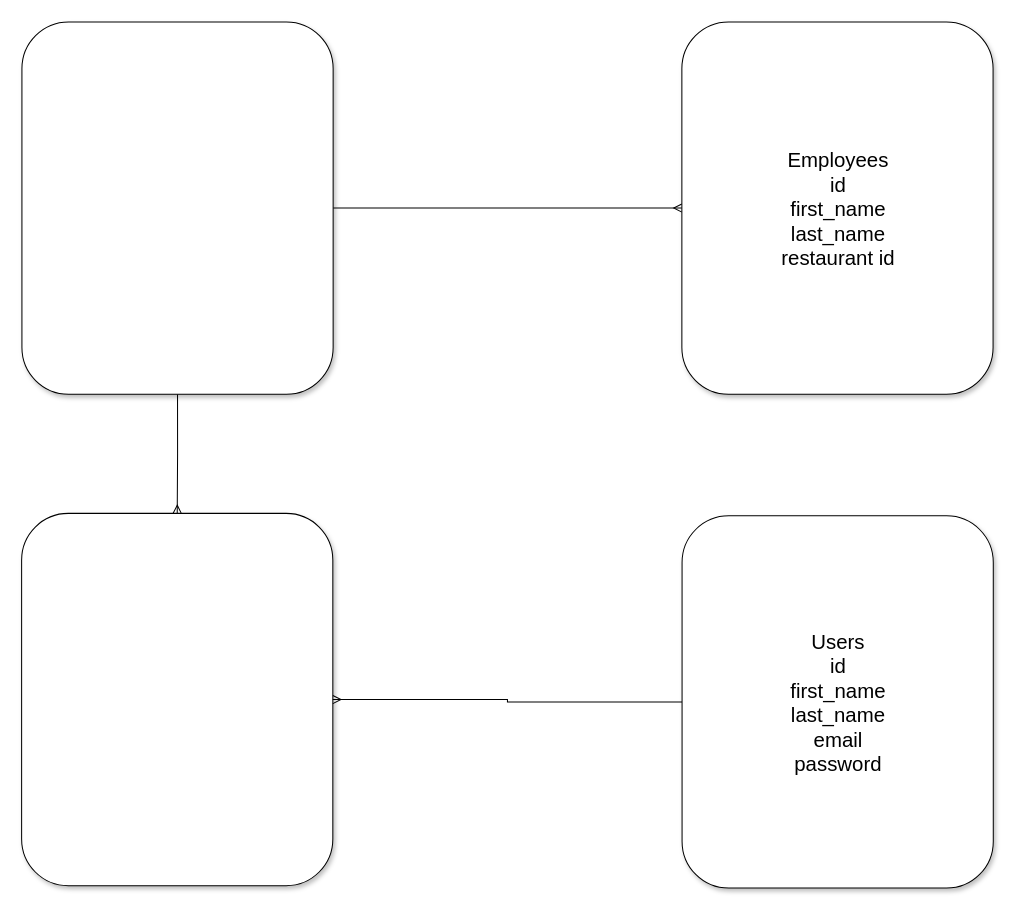
The diagram is 1018 pixels wide and 914 high, and some of its shapes have lost their labels. The shapes that lost their labels are listed below. From the top down, each one's centre as x and y in pixels, then its label:
the point at 178,209: Restaurants: id rating name type pic_url
the point at 178,700: Comments id comment rating date user_id restaurant_id
